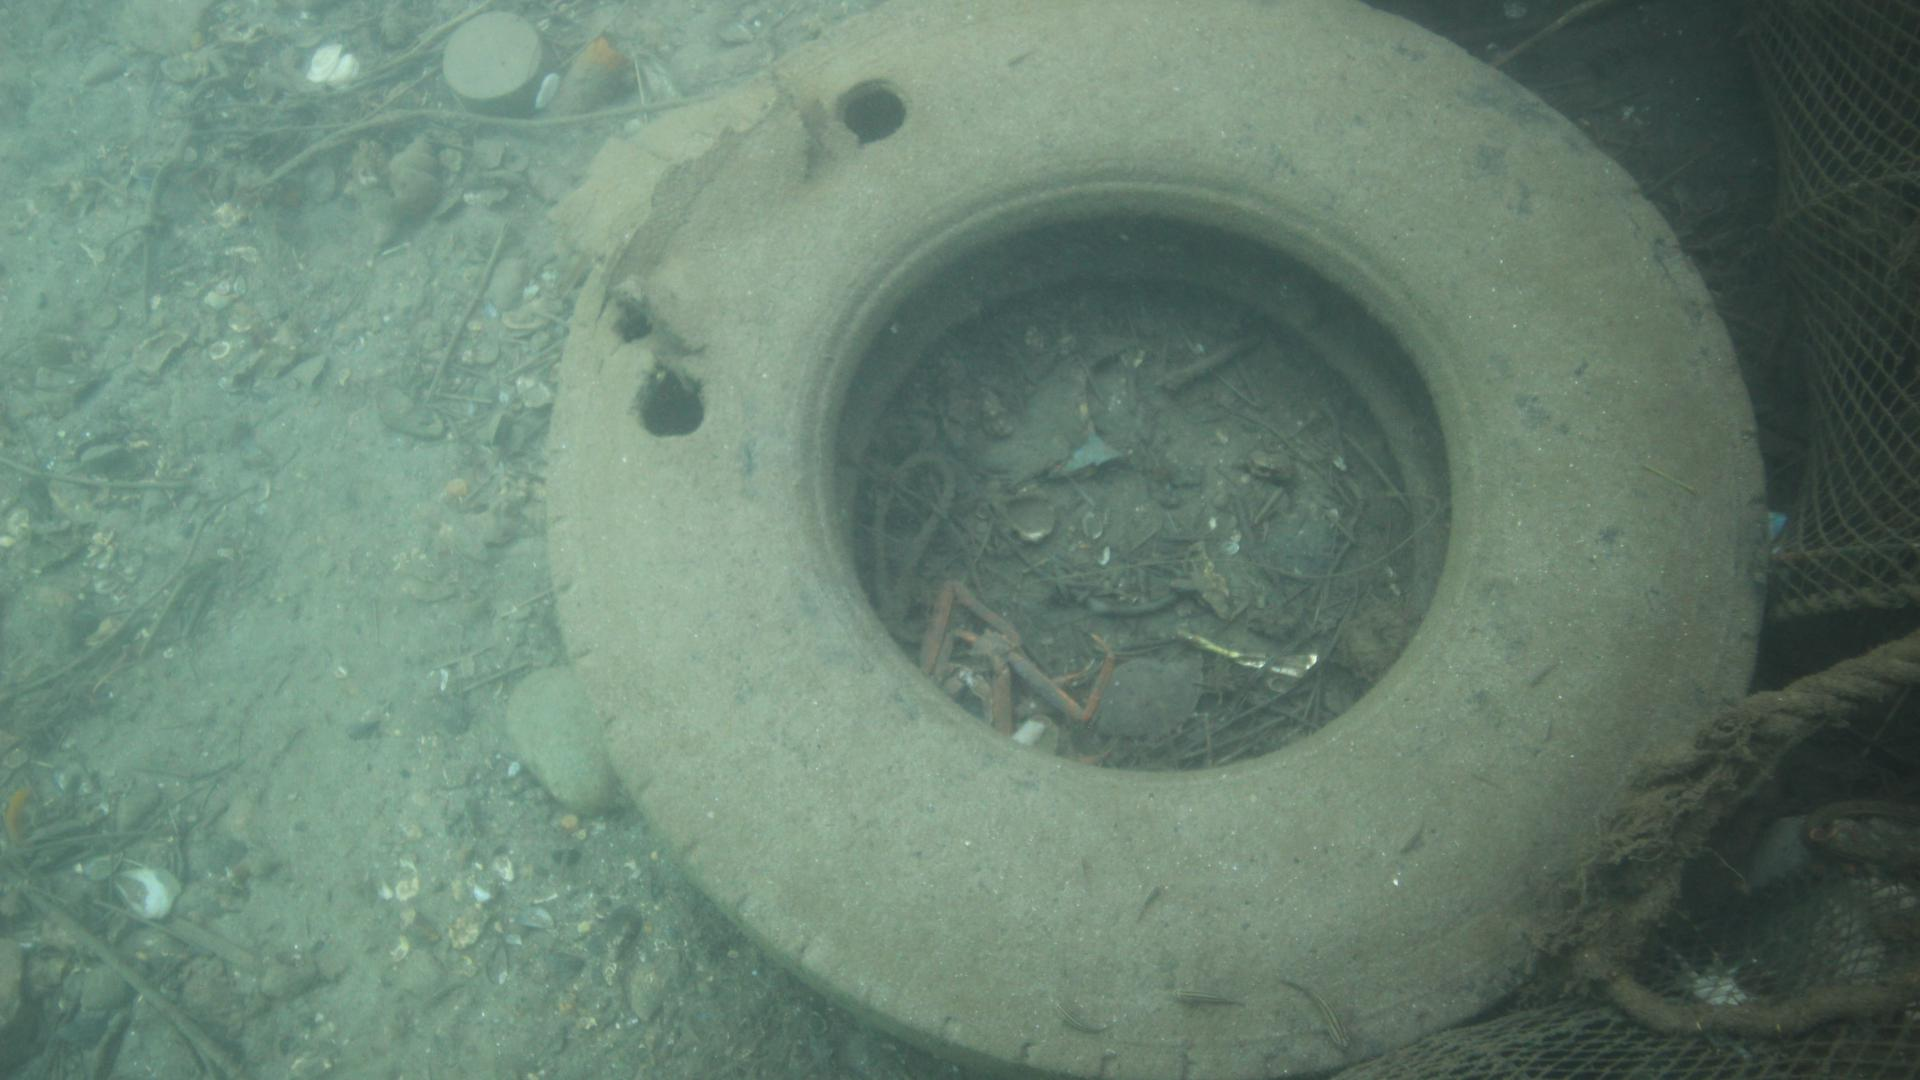fish net: (1236, 823, 1920, 1080)
rope: (1760, 626, 1920, 764)
spring fish trap: (1751, 0, 1920, 625)
tire: (546, 0, 1768, 1080)
